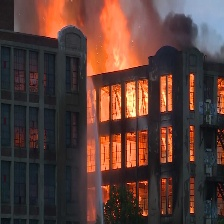fire: (86, 75, 224, 215), (39, 1, 128, 75)
smoke: (127, 2, 223, 62)
